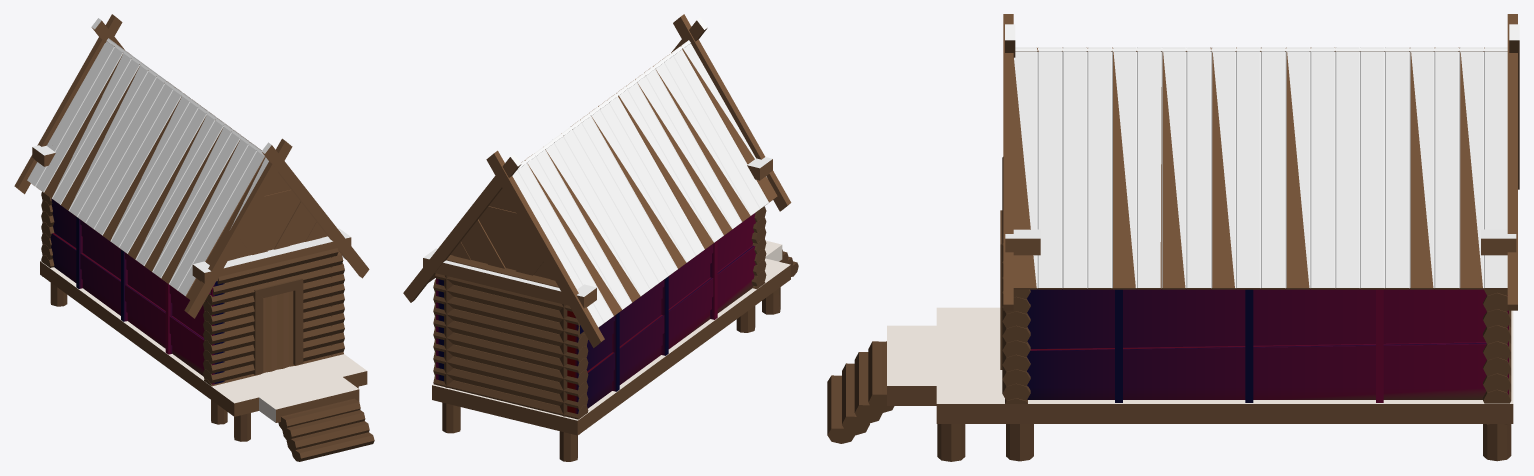
File: snow_house_2.fbx
The picture shows the model from 3 angles, left to right: view 1: azimuth 30°, elevation 25°; view 2: azimuth 150°, elevation 25°; view 3: azimuth 270°, elevation 25°; orthographic projection. The views are drawn at different scales.
Visible parts, largest first — view 1: Roof_01_b, Wall_Narrow_01_b, Wall_Wide_01_a.001, Floor_01_b, Door_04, Wall_Narrow_02_b.008, Wall_Narrow_02_b.011, Wall_Narrow_02_b.010, Wall_Narrow_02_b.009, Wall_Narrow_02_b, Wall_Narrow_02_b.006; view 2: Roof_01_b, Wall_Narrow_02_b, Wall_Wide_01_a.001, Floor_01_b, Wall_Narrow_02_b.003, Wall_Narrow_02_b.002, Wall_Narrow_01_b, Wall_Wide_01_a; view 3: Roof_01_b, Wall_Wide_01_a, Floor_01_b, Wall_Narrow_01_b, Wall_Narrow_02_b, Wall_Narrow_02_b.008, Wall_Narrow_02_b.009, Wall_Narrow_02_b.011, Wall_Narrow_02_b.003, Wall_Narrow_02_b.010, Wall_Narrow_02_b.007, Wall_Narrow_02_b.005.
Part boxes in pixels (x1,y1,x2,y2): Roof_01_b: (14, 14, 369, 318); Wall_Narrow_01_b: (203, 248, 344, 386); Wall_Wide_01_a.001: (50, 198, 224, 384); Floor_01_b: (40, 261, 367, 422); Door_04: (260, 291, 294, 374); Wall_Narrow_02_b.008: (278, 398, 360, 430); Wall_Narrow_02_b.011: (291, 432, 374, 461); Wall_Narrow_02_b.010: (286, 421, 369, 451); Wall_Narrow_02_b.009: (282, 410, 365, 440); Wall_Narrow_02_b: (41, 192, 54, 276); Wall_Narrow_02_b.006: (234, 413, 250, 441); Roof_01_b: (403, 14, 791, 347); Wall_Narrow_02_b: (433, 255, 588, 434); Wall_Wide_01_a.001: (567, 213, 755, 413); Floor_01_b: (432, 240, 790, 435); Wall_Narrow_02_b.003: (442, 275, 460, 433); Wall_Narrow_02_b.002: (559, 304, 577, 461); Wall_Narrow_01_b: (751, 206, 766, 289); Wall_Wide_01_a: (436, 278, 443, 381); Roof_01_b: (1003, 14, 1519, 310); Wall_Wide_01_a: (1027, 289, 1508, 402); Floor_01_b: (887, 307, 1513, 423); Wall_Narrow_01_b: (1000, 157, 1030, 403); Wall_Narrow_02_b: (1483, 289, 1511, 424); Wall_Narrow_02_b.008: (868, 341, 894, 412); Wall_Narrow_02_b.009: (854, 352, 882, 423); Wall_Narrow_02_b.011: (827, 375, 855, 443); Wall_Narrow_02_b.003: (1483, 310, 1511, 461); Wall_Narrow_02_b.010: (842, 363, 869, 435); Wall_Narrow_02_b.007: (937, 424, 965, 461); Wall_Narrow_02_b.005: (1006, 424, 1033, 461).
Size of the model in its own units: 289 by 409 by 644.
